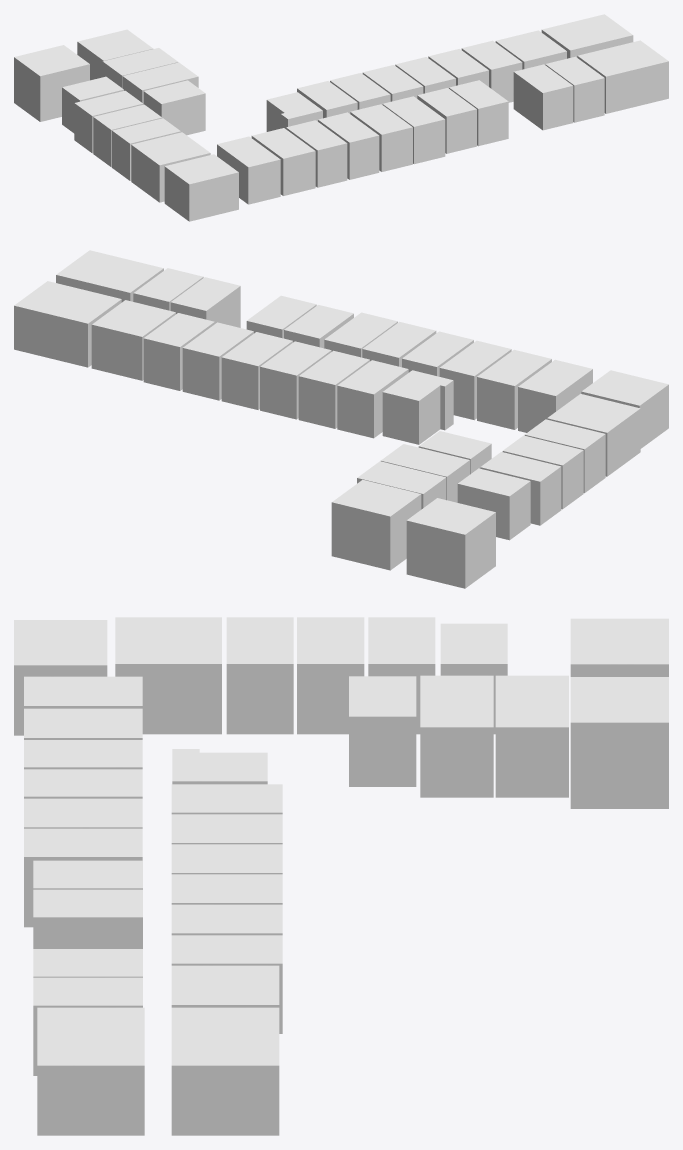
Rendered from floor_plan.glb.
3 renders of one model, top to bottom at view 1: azimuth 30°, elevation 25°; view 2: azimuth 150°, elevation 25°; view 3: azimuth 270°, elevation 25°, orthographic. The views are drawn at different scales.
Visible parts, largest first — view 1: pasted__pasted__pCube22; view 2: pasted__pasted__pCube22; view 3: pasted__pasted__pCube22.
Part boxes in pixels (<box>): pasted__pasted__pCube22: <box>14,14,668,221</box>; pasted__pasted__pCube22: <box>14,250,668,588</box>; pasted__pasted__pCube22: <box>14,617,668,1135</box>.
Size of the model in its own units: 18.07 by 1.62 by 11.16.
Materials: 1 (1 with a texture image).
